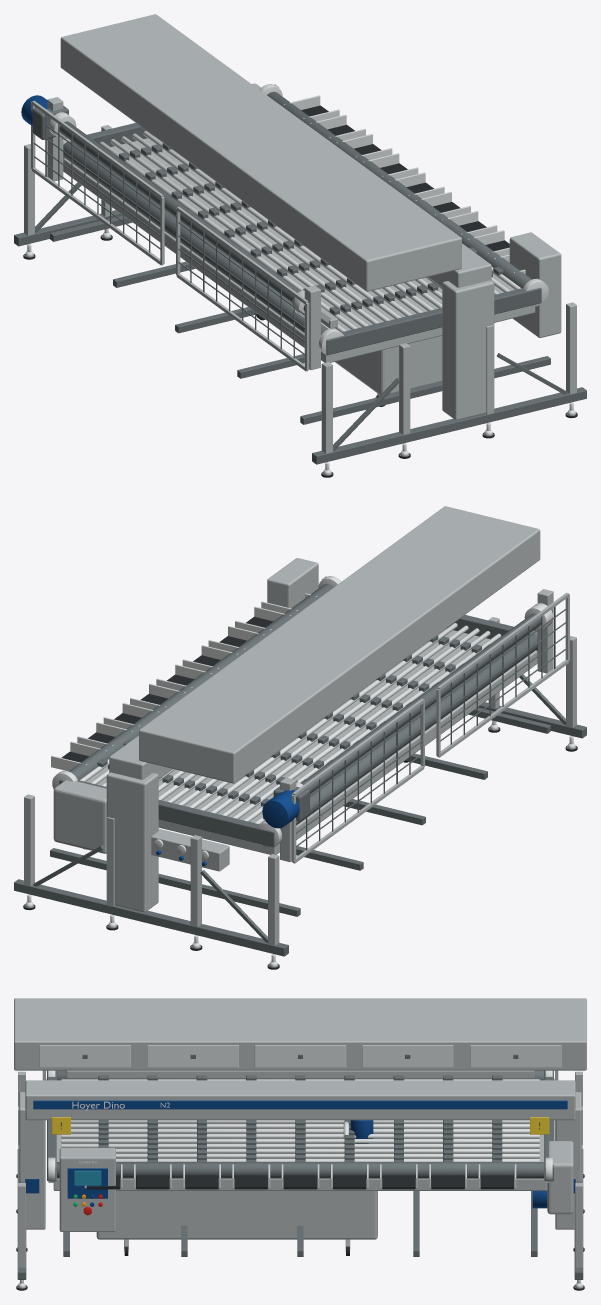
The model's file is tetra-pak-hoyer-dino-n2.glb.
3 views of the same model, one above another, from view 1: azimuth 30°, elevation 25°; view 2: azimuth 150°, elevation 25°; view 3: azimuth 270°, elevation 25° (orthographic). The views are drawn at different scales.
Parts seen in each view (by area): view 1: frame.overhead_cabinet, carrier.deck_pan, frame.end_cheek.left, carrier.end_shaft.-1.25, control.pedestal, frame.base_rail.left, tank.mobile_body, carrier.chain_rail.left, carrier.end_shaft.+1.25, pickup.main_shaft, frame.cross_member.-2.66, carrier.roller.07 (+22 smaller); view 2: frame.overhead_cabinet, carrier.deck_pan, frame.end_cheek.right, carrier.end_shaft.-1.25, utilities.chain_drive_housing, frame.base_rail.right, carrier.end_shaft.+1.25, pickup.main_shaft, carrier.chain_rail.right, control.pedestal, frame.cross_member.+2.66, utilities.pneumatic_manifold (+24 smaller); view 3: frame.overhead_cabinet, frame.fascia_beam, tank.mobile_body, carrier.end_shaft.+1.25, carrier.deck_pan, frame.fascia_blue, pickup.gripper_bar, control.pedestal, frame.end_cheek.left, frame.overhead_access_door.3, frame.overhead_access_door.1, frame.overhead_access_door.5 (+30 smaller).
Part boxes in pixels (x1=…): frame.overhead_cabinet: x1=60, y1=14, x2=461, y2=291; carrier.deck_pan: x1=63, y1=137, x2=535, y2=362; frame.end_cheek.left: x1=442, y1=280, x2=494, y2=420; carrier.end_shaft.-1.25: x1=63, y1=141, x2=328, y2=334; control.pedestal: x1=509, y1=232, x2=561, y2=337; frame.base_rail.left: x1=312, y1=387, x2=586, y2=464; tank.mobile_body: x1=335, y1=335, x2=442, y2=394; carrier.chain_rail.left: x1=326, y1=287, x2=541, y2=355; carrier.end_shaft.+1.25: x1=267, y1=91, x2=531, y2=288; pickup.main_shaft: x1=59, y1=121, x2=304, y2=311; frame.cross_member.-2.66: x1=300, y1=356, x2=550, y2=424; carrier.roller.07: x1=143, y1=131, x2=400, y2=318; frame.overhead_cabinet: x1=139, y1=506, x2=540, y2=783; carrier.deck_pan: x1=86, y1=629, x2=537, y2=854; frame.end_cheek.right: x1=106, y1=772, x2=158, y2=912; carrier.end_shaft.-1.25: x1=296, y1=633, x2=537, y2=824; utilities.chain_drive_housing: x1=53, y1=780, x2=106, y2=853; frame.base_rail.right: x1=14, y1=879, x2=288, y2=956; carrier.end_shaft.+1.25: x1=69, y1=583, x2=333, y2=780; pickup.main_shaft: x1=301, y1=610, x2=552, y2=793; carrier.chain_rail.right: x1=59, y1=779, x2=274, y2=847; control.pedestal: x1=267, y1=558, x2=318, y2=608; frame.cross_member.+2.66: x1=50, y1=848, x2=300, y2=916; utilities.pneumatic_manifold: x1=151, y1=829, x2=229, y2=871; frame.overhead_cabinet: x1=14, y1=998, x2=586, y2=1070; frame.fascia_beam: x1=25, y1=1080, x2=575, y2=1120; tank.mobile_body: x1=96, y1=1191, x2=377, y2=1239; carrier.end_shaft.+1.25: x1=57, y1=1162, x2=543, y2=1178; carrier.deck_pan: x1=53, y1=1123, x2=547, y2=1190; frame.fascia_blue: x1=33, y1=1100, x2=567, y2=1109; pickup.gripper_bar: x1=66, y1=1070, x2=534, y2=1078; control.pedestal: x1=59, y1=1148, x2=115, y2=1231; frame.end_cheek.left: x1=19, y1=1092, x2=45, y2=1229; frame.overhead_access_door.3: x1=254, y1=1045, x2=346, y2=1067; frame.overhead_access_door.1: x1=39, y1=1045, x2=130, y2=1067; frame.overhead_access_door.5: x1=470, y1=1045, x2=561, y2=1067.
Bounding box in the file's own units: 3.33 × 2.45 × 6.52.
